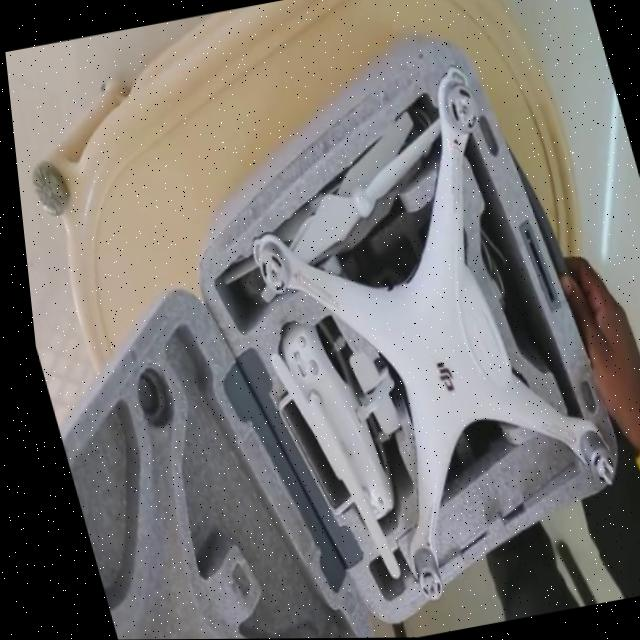drones: (191, 75, 640, 639)
